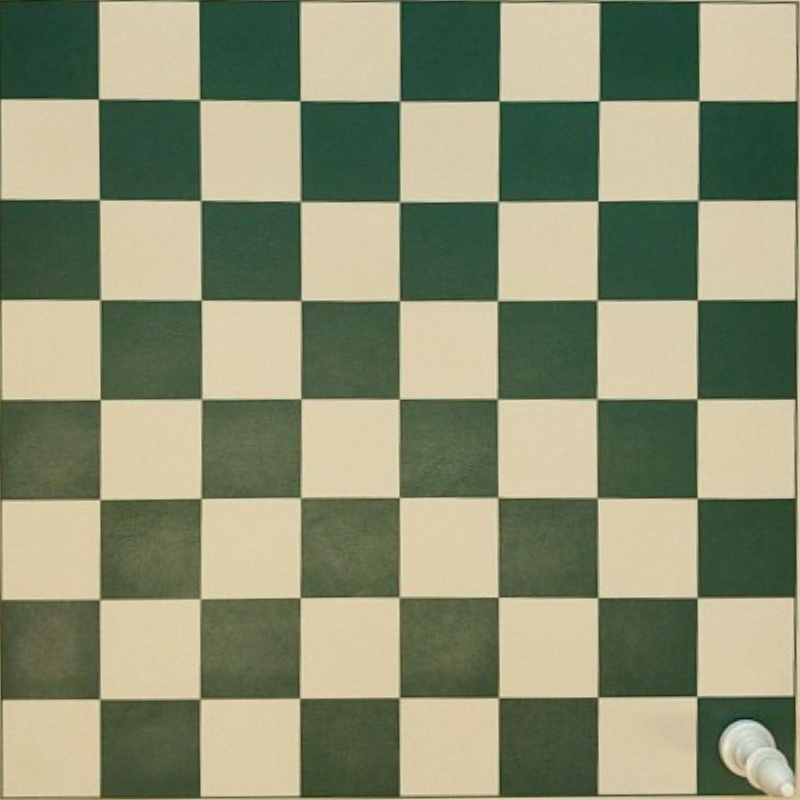white-bishop: (717, 717, 798, 799)
